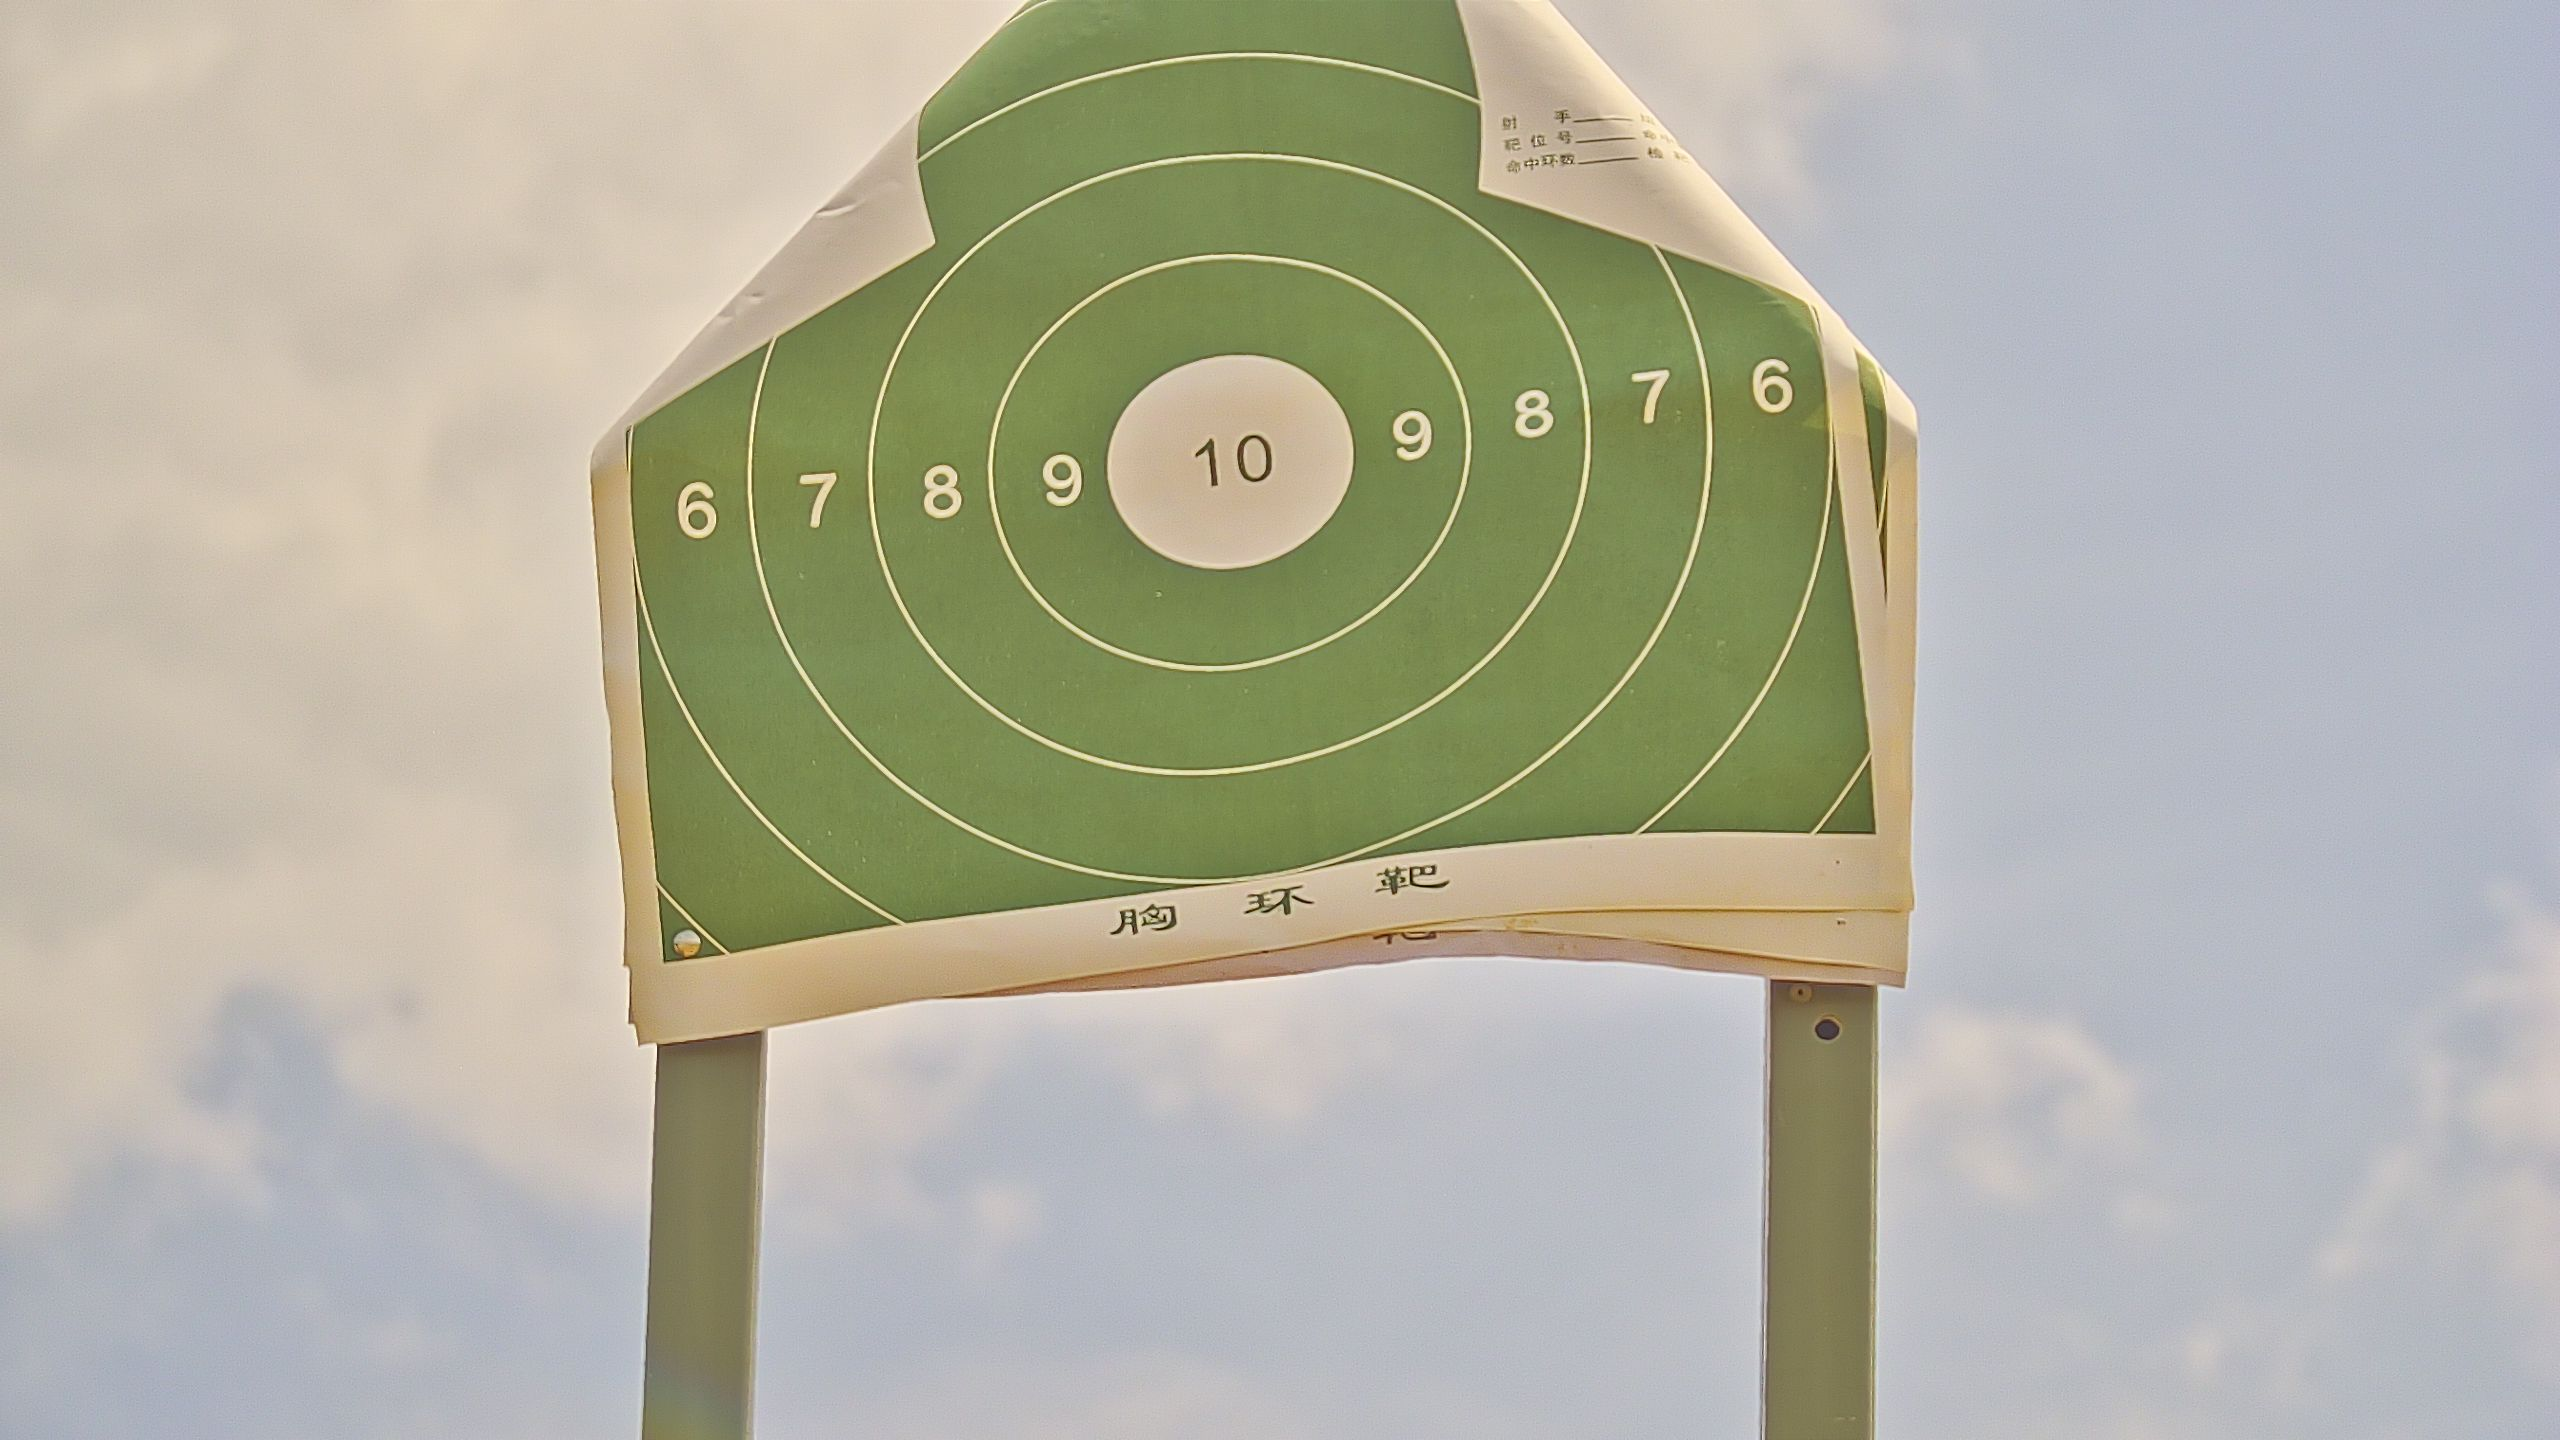kernel: (1227, 462, 1229, 466)
target: (621, 2, 1883, 958)
ten: (1102, 357, 1359, 571)
